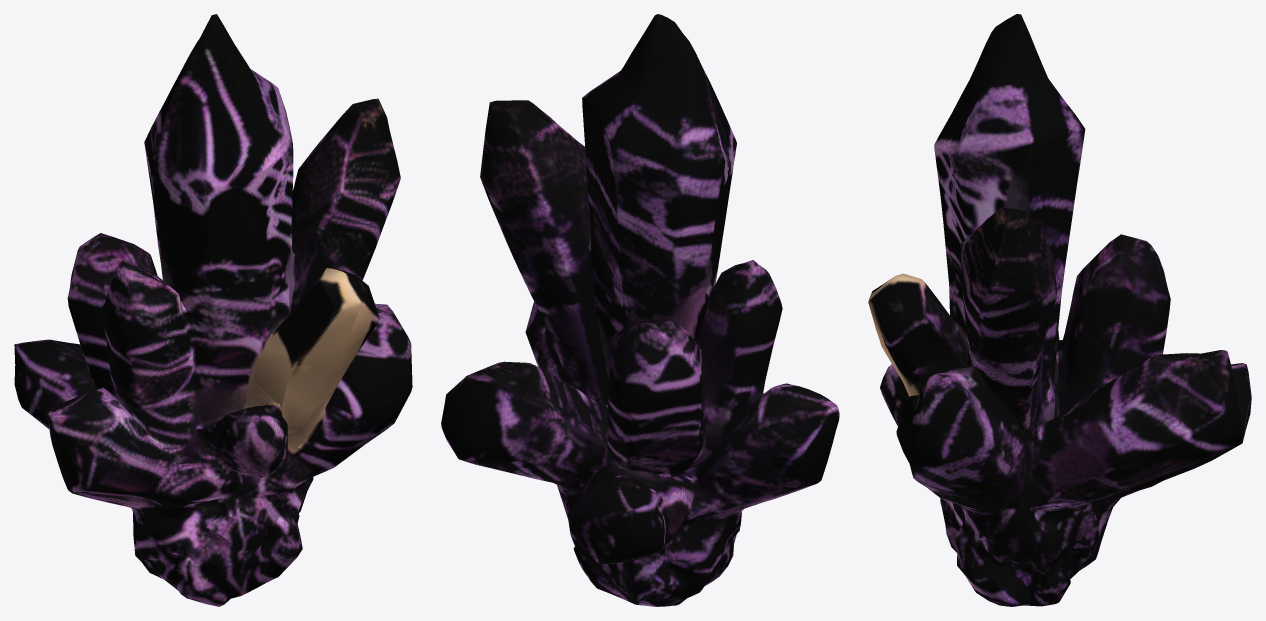
Rendered from magic-crystals-clean_web.glb.
3 views of the same model, side by side, from view 1: azimuth 30°, elevation 25°; view 2: azimuth 150°, elevation 25°; view 3: azimuth 270°, elevation 25° (orthographic).
Visible parts, largest first — view 1: LOD0; view 2: LOD0; view 3: LOD0.
Boxes of the visible parts, box(x1,y1,x2,y2) form: LOD0: box(14, 14, 412, 606); LOD0: box(441, 14, 839, 606); LOD0: box(868, 14, 1251, 606).
Bounding box in the file's own units: 1.22 × 1.97 × 1.18.
1 material, 1 textured.
